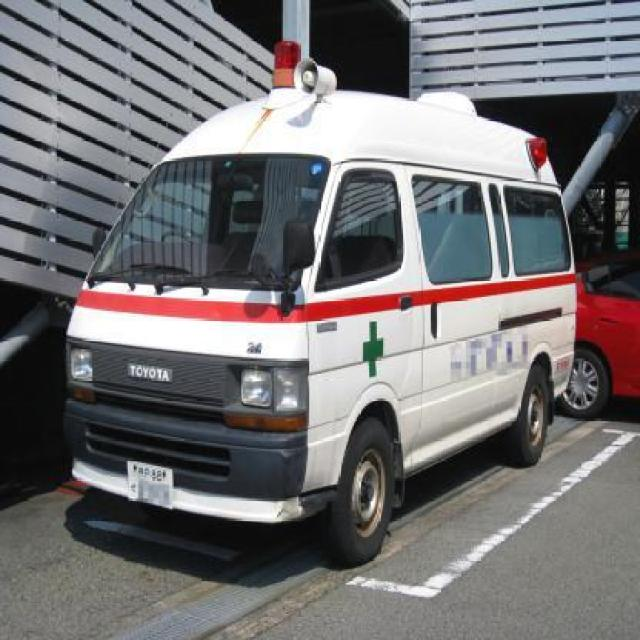Ambulance: (39, 17, 580, 515)
